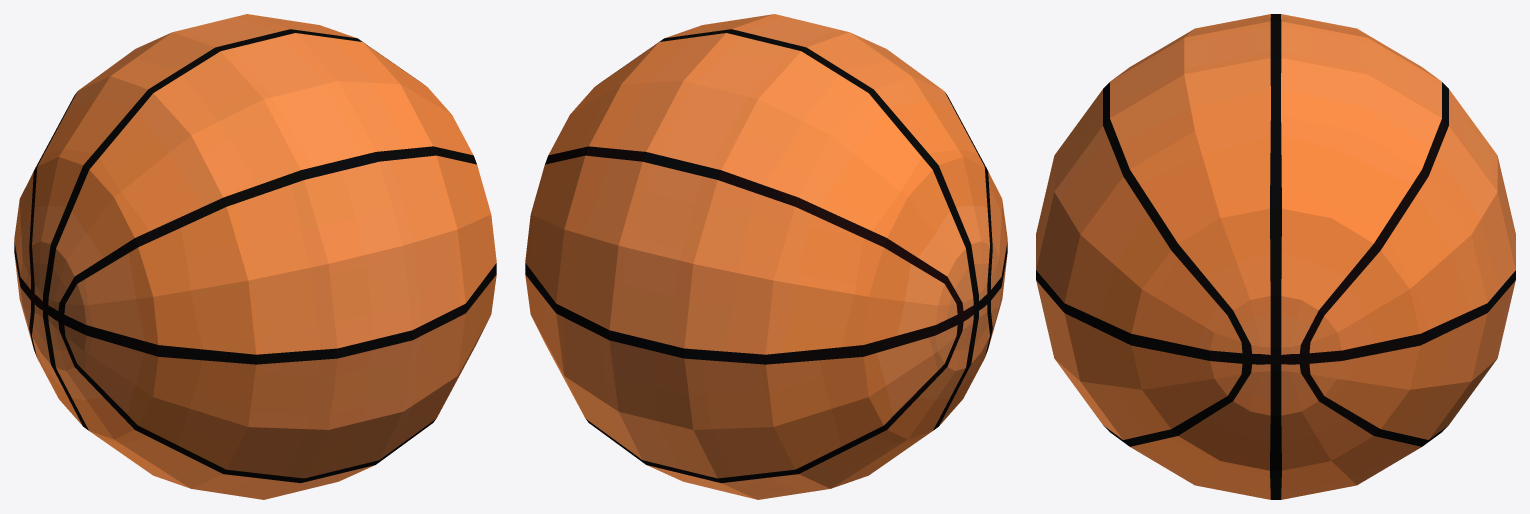
The model's file is basketball.glb.
3 views of the same model, side by side, from view 1: azimuth 30°, elevation 25°; view 2: azimuth 150°, elevation 25°; view 3: azimuth 270°, elevation 25° (orthographic).
Visible parts, largest first — view 1: Sphere; view 2: Sphere; view 3: Sphere.
Boxes of the visible parts, box(x1,y1,x2,y2) form: Sphere: box(14, 14, 496, 499); Sphere: box(525, 14, 1007, 499); Sphere: box(1036, 14, 1515, 499).
Bounding box in the file's own units: 1.11 × 1.09 × 1.09.
Materials: 1 (1 with a texture image).
